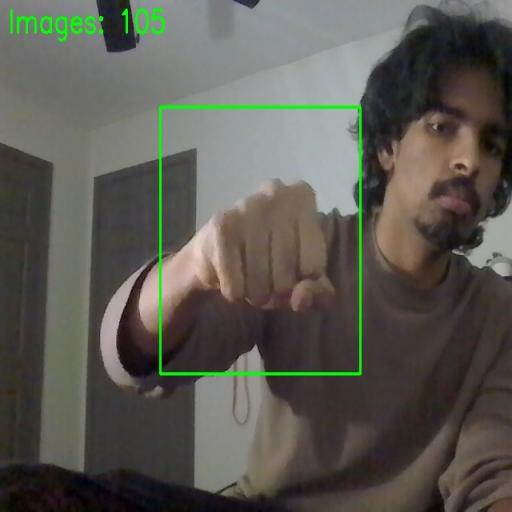backspace: (160, 107, 361, 375)
